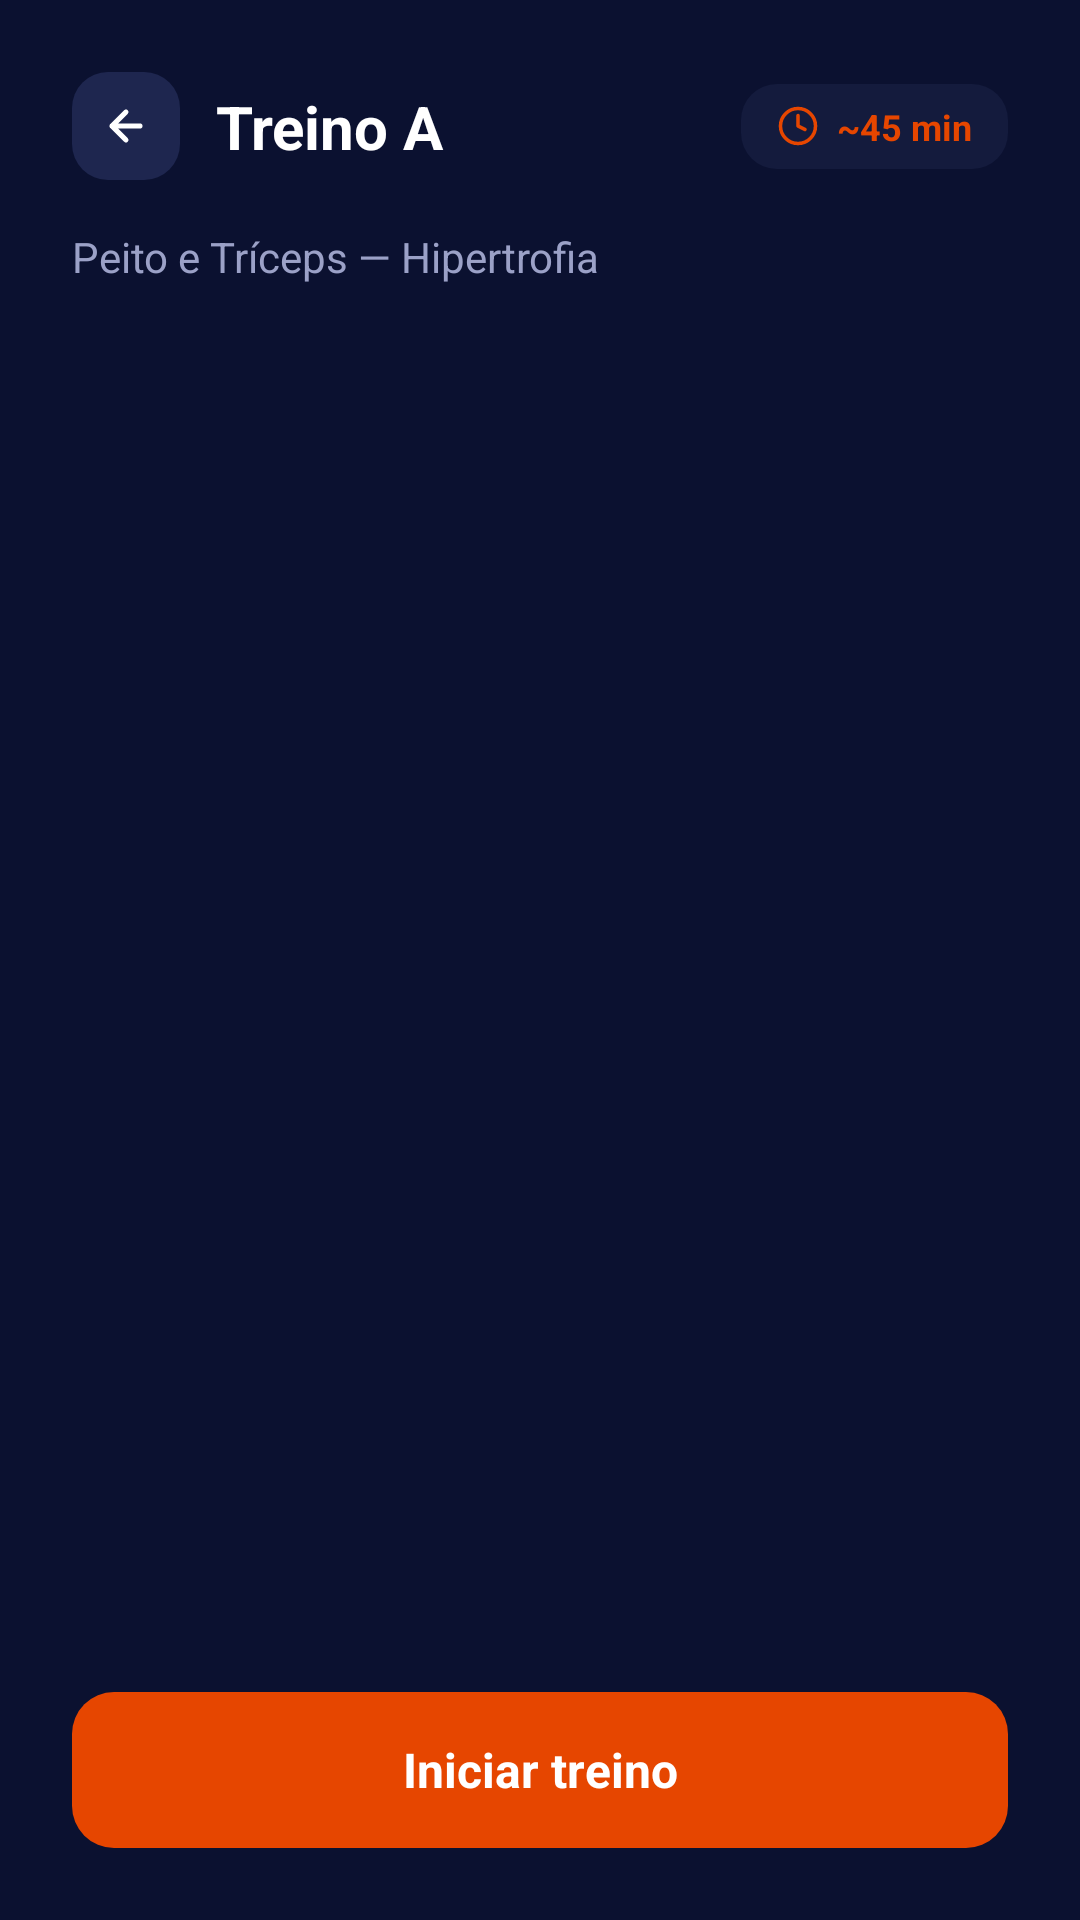

Screen size 1080px x 1920px. Icon name, then its box in pixels as (x1, y1, x2, y2):
clock: (778, 106, 818, 146)
Voltar: (72, 72, 180, 180)
